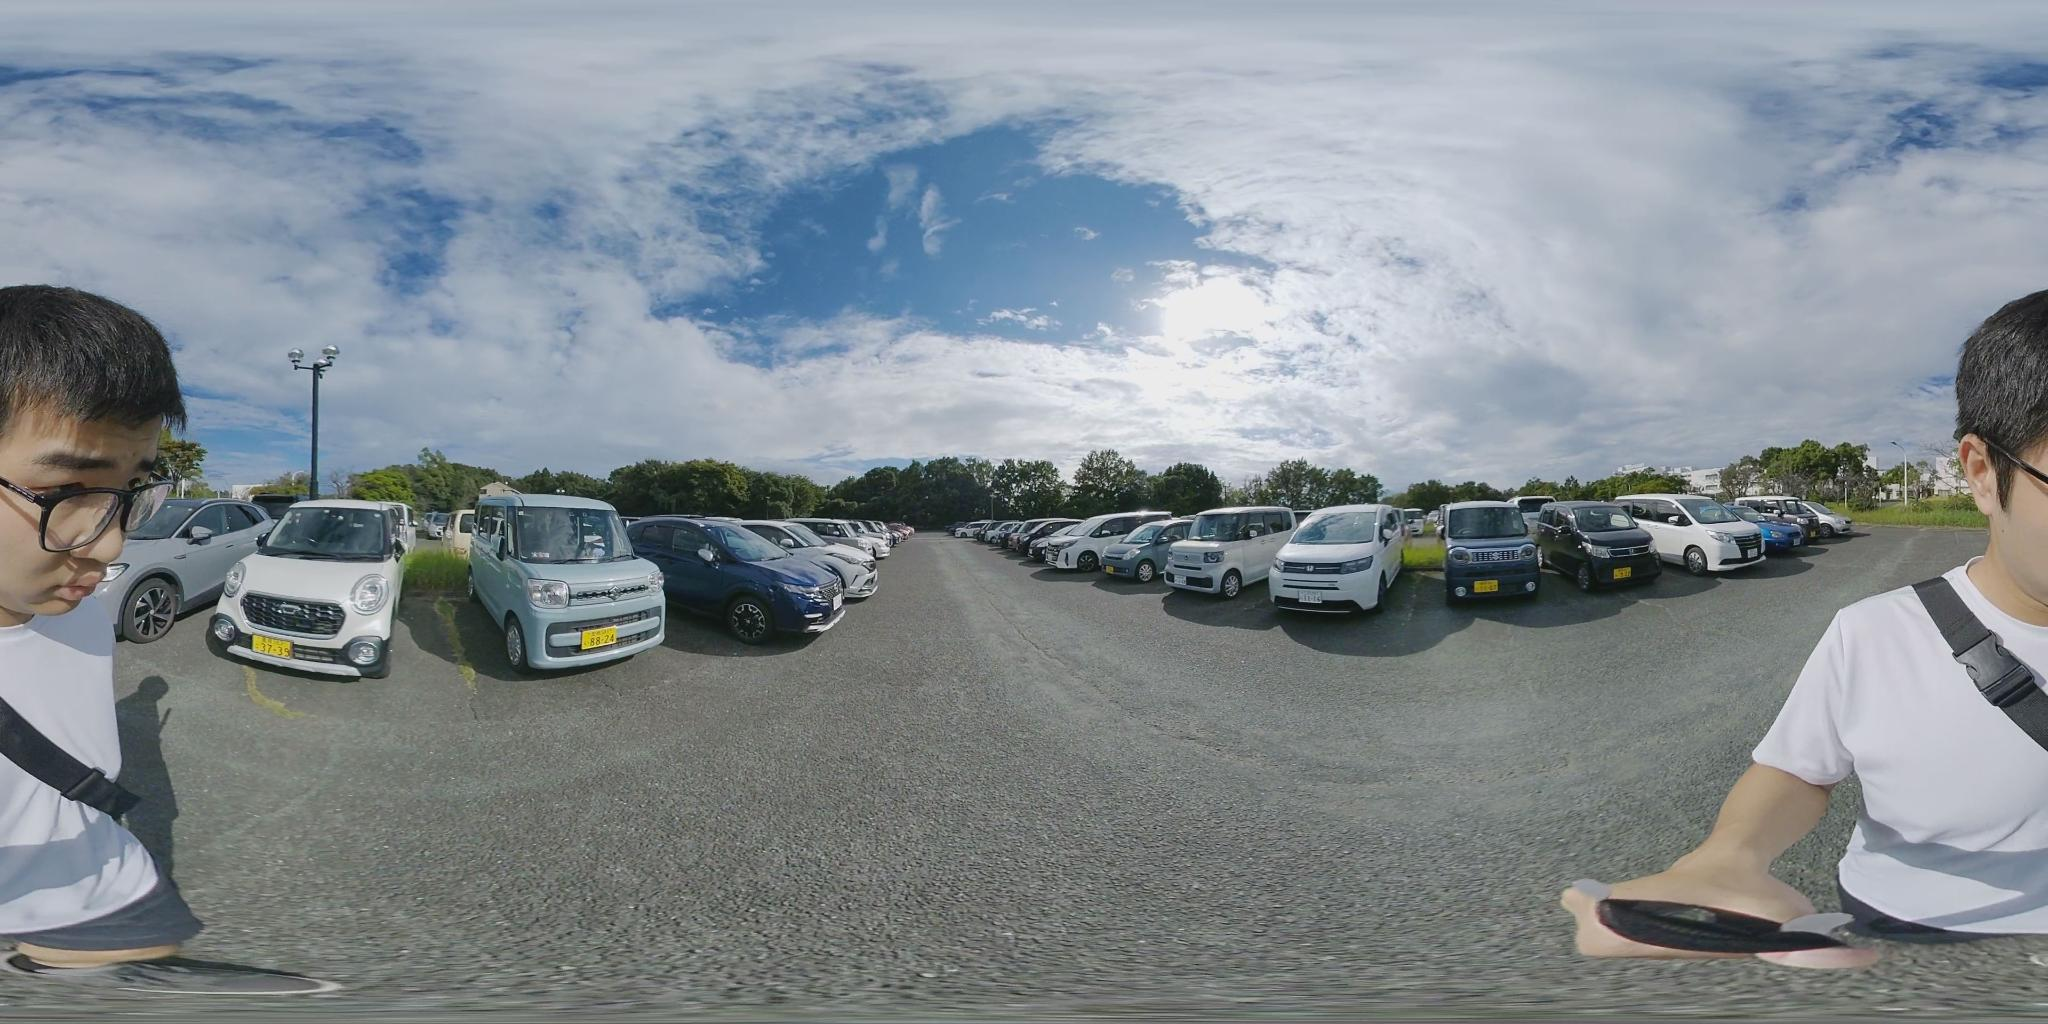car: (209, 498, 431, 682), (468, 498, 664, 660), (86, 495, 287, 644), (623, 519, 849, 647), (1273, 505, 1411, 614), (1142, 507, 1298, 596), (1607, 494, 1774, 569), (1527, 504, 1661, 588), (744, 521, 889, 597), (1442, 504, 1536, 600), (1044, 515, 1176, 575), (1737, 496, 1859, 542), (998, 520, 1076, 560), (1787, 499, 1861, 537), (951, 521, 1012, 545)
